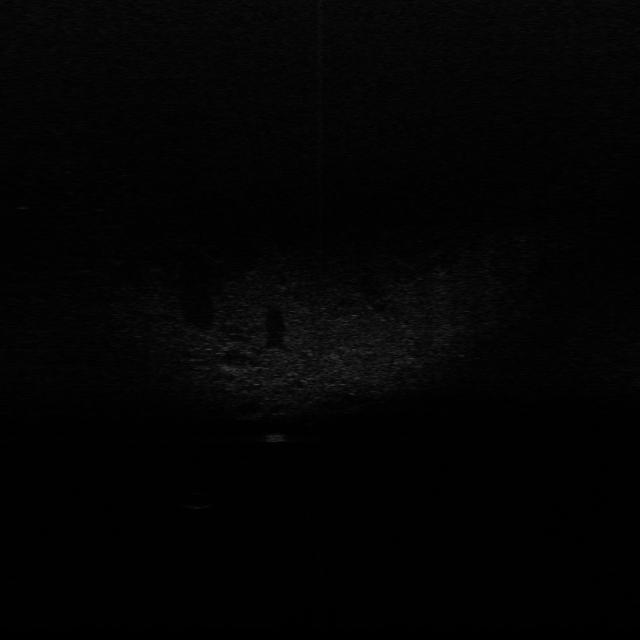ball: (183, 488, 216, 511)
cube: (259, 430, 292, 446)
